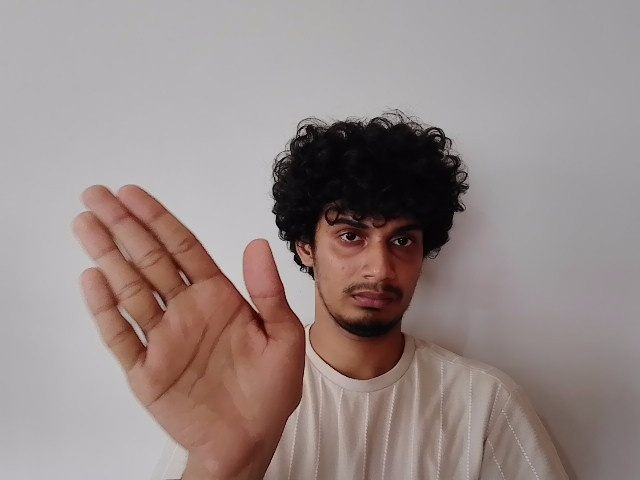hello: (71, 179, 305, 455)
